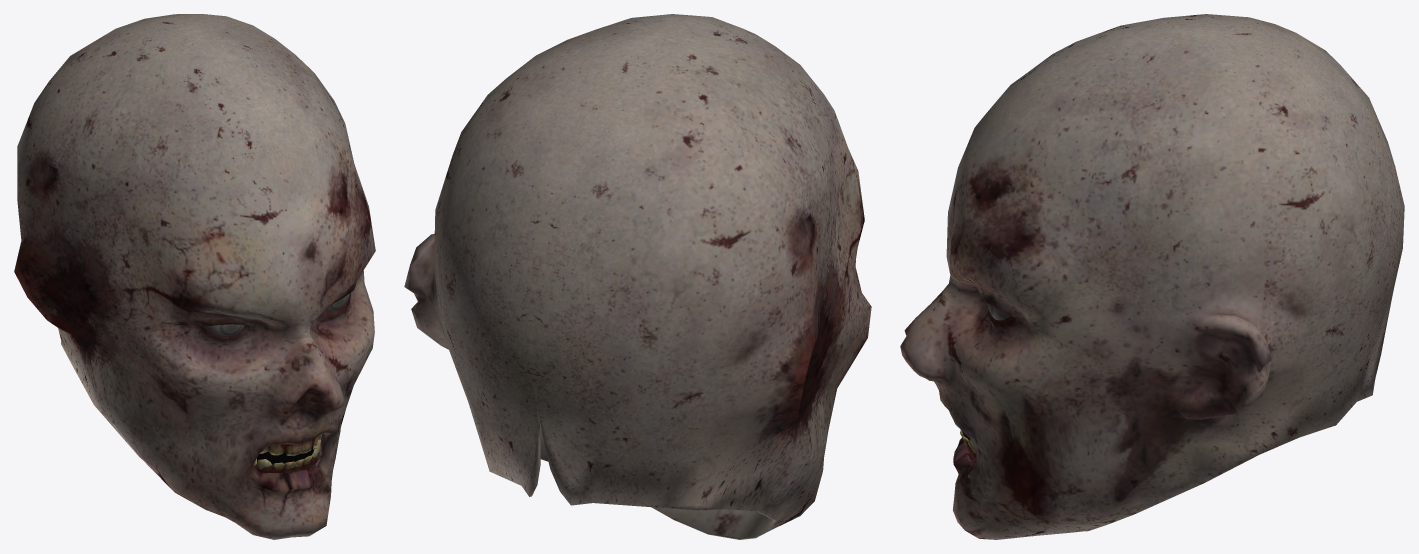
File: SurvivorMale_Head_Mask_ZombieMale_LOD0.glb
The picture shows the model from 3 angles, left to right: view 1: azimuth 30°, elevation 25°; view 2: azimuth 150°, elevation 25°; view 3: azimuth 270°, elevation 25°; orthographic projection. The views are drawn at different scales.
Parts seen in each view (by area): view 1: Hoodie; view 2: Hoodie; view 3: Hoodie.
Boxes of the visible parts, box(x1,y1,x2,y2) form: Hoodie: box(14, 14, 375, 539); Hoodie: box(404, 14, 871, 539); Hoodie: box(900, 14, 1404, 539).
Bounding box in the file's own units: 0.2143 × 0.2819 × 0.2602.
Materials: 1 (1 with a texture image).
